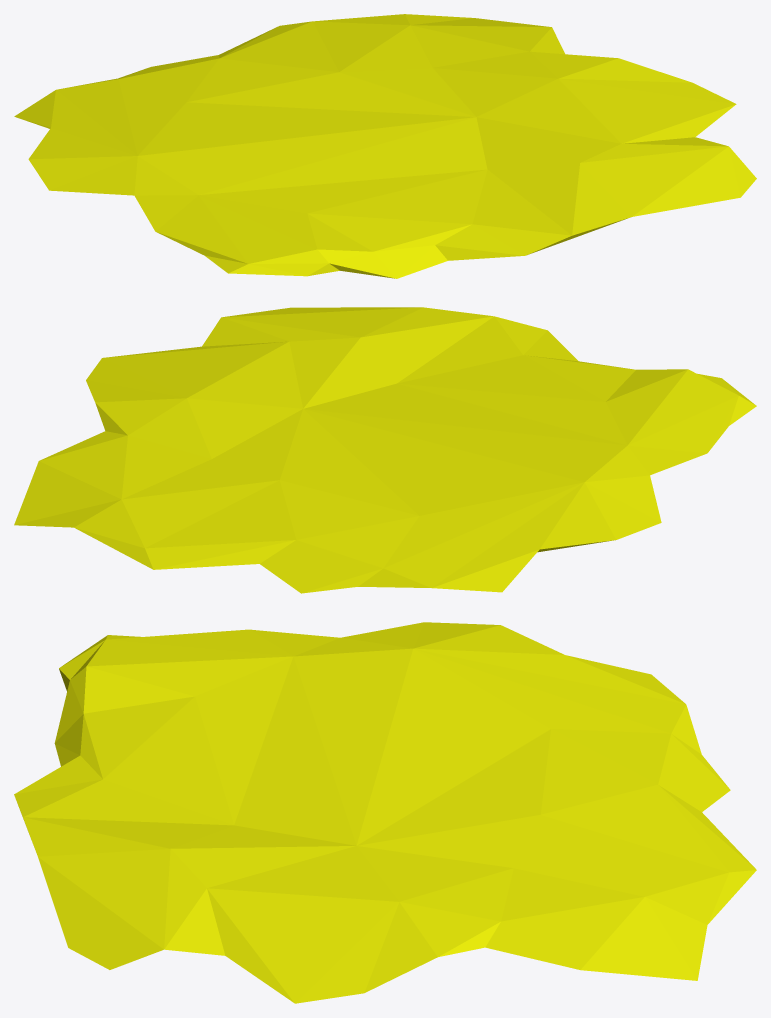
The model's file is cheese.fbx.
3 views of the same model, one above another, from view 1: azimuth 30°, elevation 25°; view 2: azimuth 150°, elevation 25°; view 3: azimuth 270°, elevation 25° (orthographic). The views are drawn at different scales.
Visible parts, largest first — view 1: cheese; view 2: cheese; view 3: cheese.
Part boxes in pixels (x1,y1,x2,y2): cheese: [14, 14, 756, 278]; cheese: [14, 307, 756, 593]; cheese: [14, 622, 756, 1003].
Size of the model in its own units: 1.63 by 0.1683 by 1.46.
